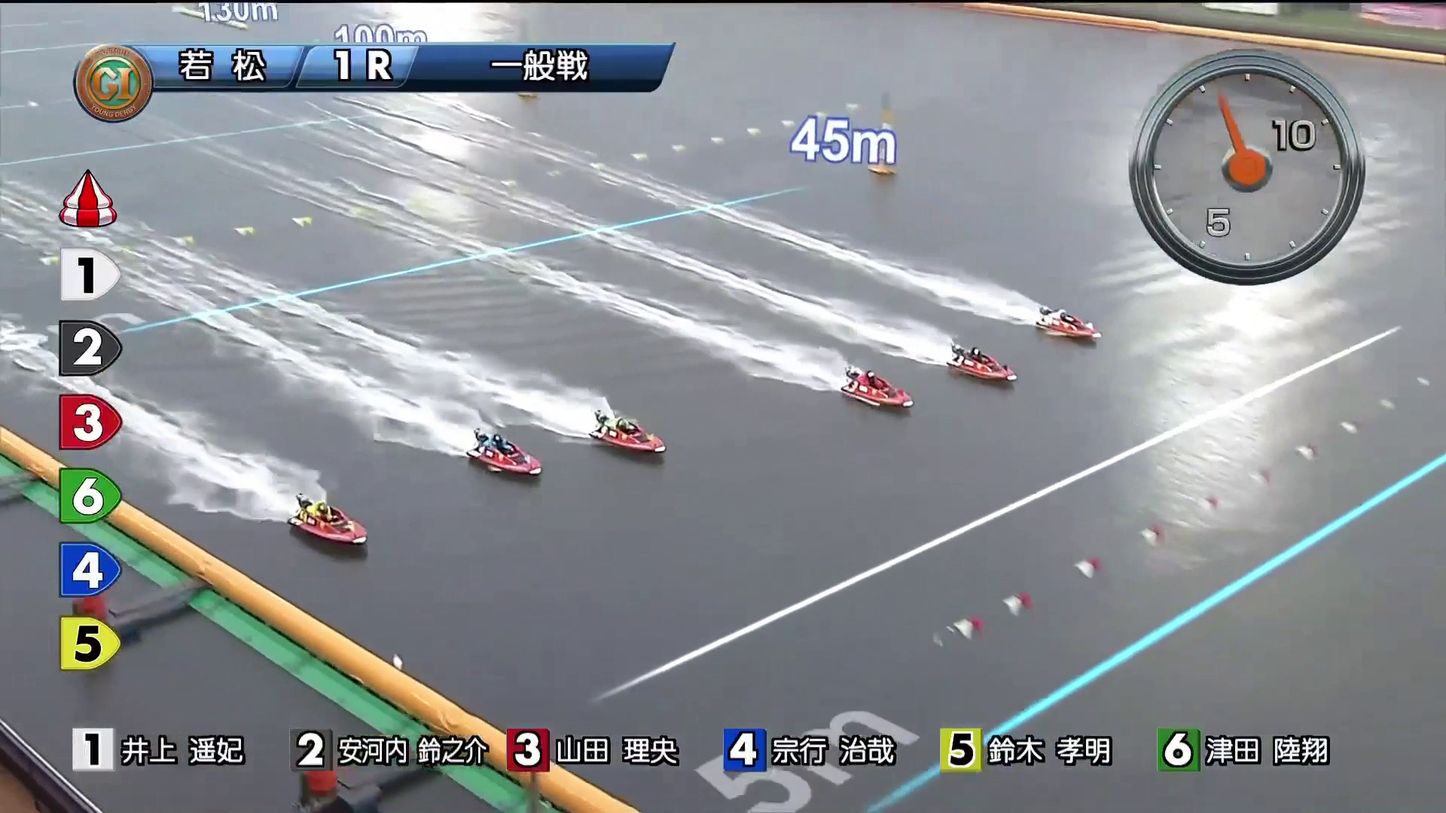１号艇: (1023, 293, 1086, 340)
２号艇: (949, 338, 1011, 376)
３号艇: (844, 362, 899, 404)
４号艇: (601, 412, 664, 455)
５号艇: (475, 446, 544, 484)
６号艇: (318, 524, 383, 571)
